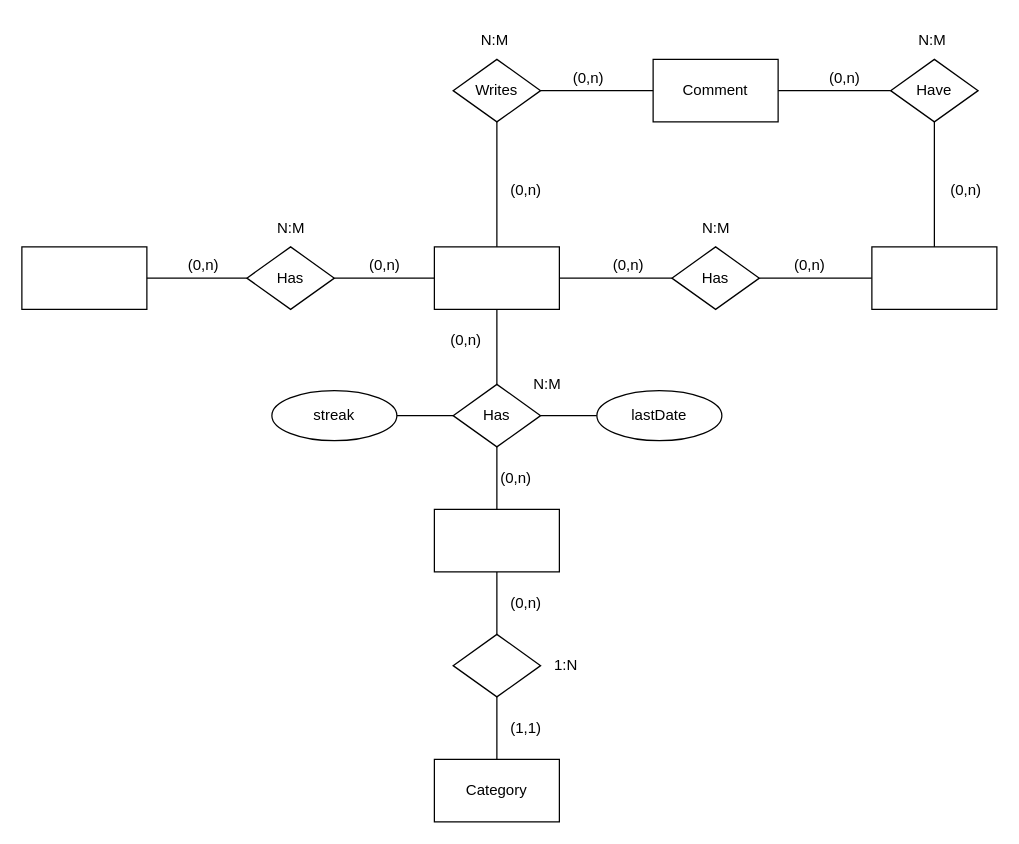
Some shapes in this 1019 by 844 pixel diagram are drawn without their labels. The shapes that lost their labels are listed below. From the top down, each one's centre as x and y in pixels, then its label:
At pixel 84 277: "Badge".
At pixel 496 277: "User".
At pixel 934 277: "Post".
At pixel 496 540: "Activity".
At pixel 496 665: "Contains".
